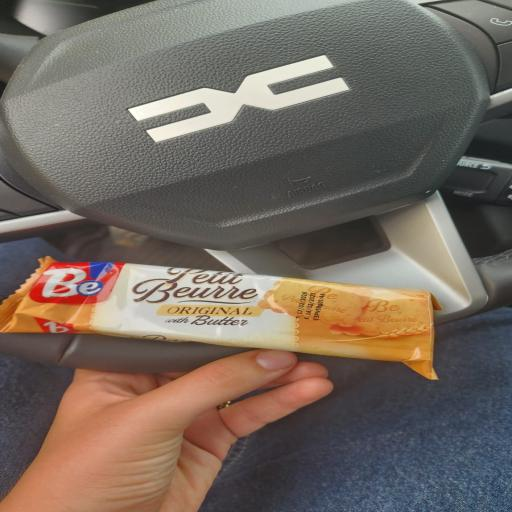petit_beurre: (3, 236, 487, 426)
